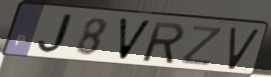8: (75, 16, 109, 58)
J: (35, 12, 79, 56)
R: (142, 20, 187, 66)
V: (117, 16, 154, 63), (226, 27, 262, 72)
Z: (177, 24, 225, 68)
